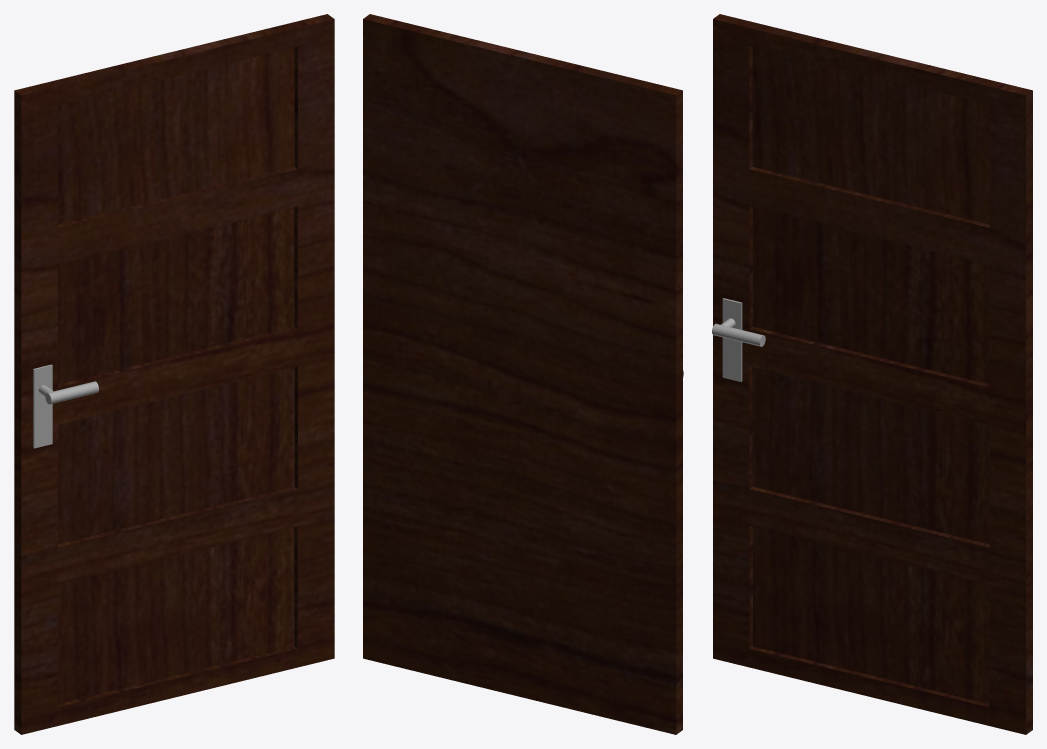
File: Deur.fbx
The picture shows the model from 3 angles, left to right: view 1: azimuth 30°, elevation 25°; view 2: azimuth 150°, elevation 25°; view 3: azimuth 330°, elevation 25°; orthographic projection.
Visible parts, largest first — view 1: polySurface4, polySurface7, polySurface5; view 2: polySurface4; view 3: polySurface4, polySurface7, polySurface5.
Part boxes in pixels (bbox=[...]): polySurface4: bbox=[14, 14, 334, 734]; polySurface7: bbox=[33, 364, 52, 448]; polySurface5: bbox=[45, 381, 98, 404]; polySurface4: bbox=[363, 14, 682, 734]; polySurface4: bbox=[713, 14, 1032, 734]; polySurface7: bbox=[722, 298, 742, 381]; polySurface5: bbox=[712, 323, 765, 346].
Size of the model in its own units: 4.05 by 7.9 by 0.5004.
2 materials, 1 textured.
